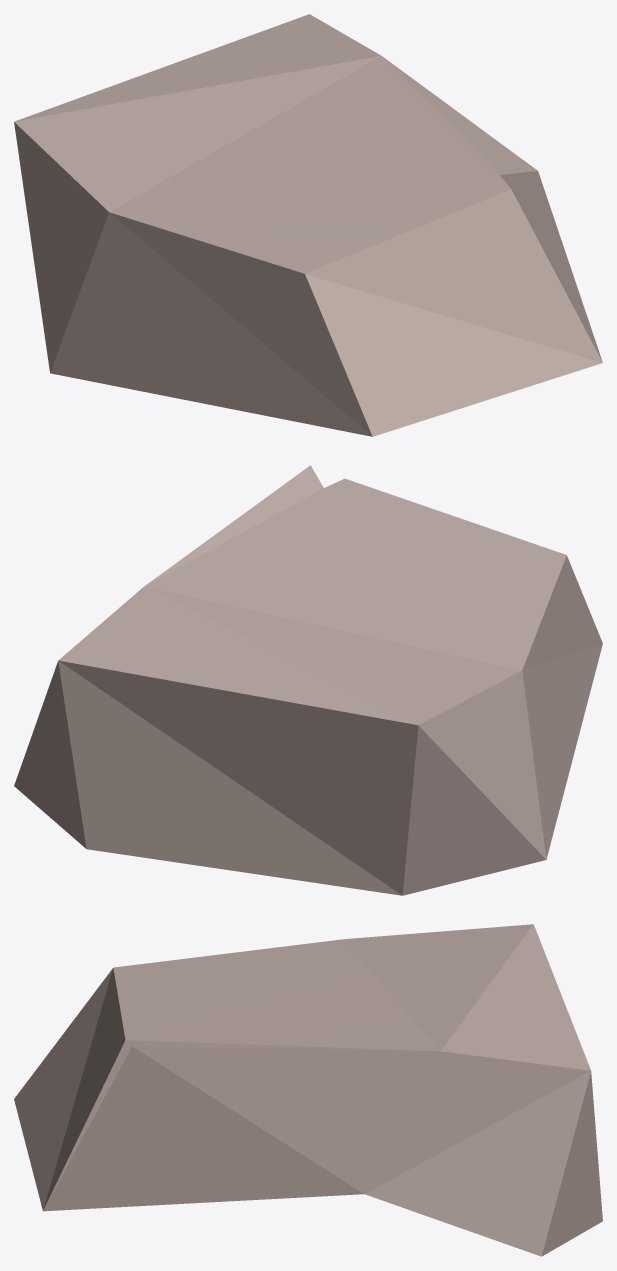
The model's file is rock_016.fbx.
3 renders of one model, top to bottom at view 1: azimuth 30°, elevation 25°; view 2: azimuth 150°, elevation 25°; view 3: azimuth 270°, elevation 25°, orthographic. The views are drawn at different scales.
Visible parts, largest first — view 1: rock.016; view 2: rock.016; view 3: rock.016.
Part boxes in pixels (x1=…): rock.016: x1=14, y1=14, x2=602, y2=436; rock.016: x1=14, y1=465, x2=602, y2=895; rock.016: x1=14, y1=924, x2=602, y2=1256.
Size of the model in its own units: 155 by 70.23 by 188.
Materials: 1 (1 with a texture image).
